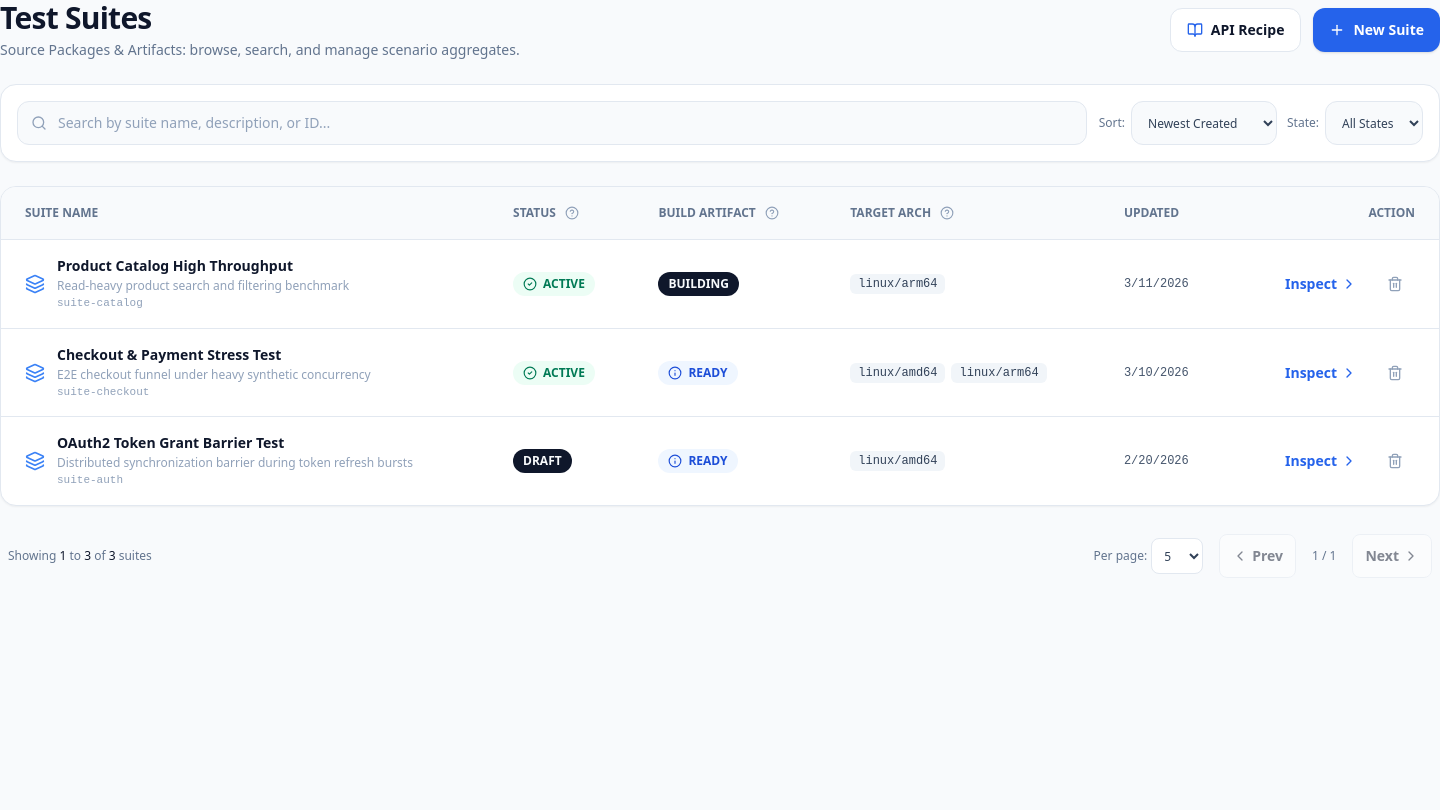
Test case: SuitesView Delete Action › opens delete confirmation dialog when clicking row delete action
Click the button named "delete suite": click(1395, 284) [1375,266,1415,302]
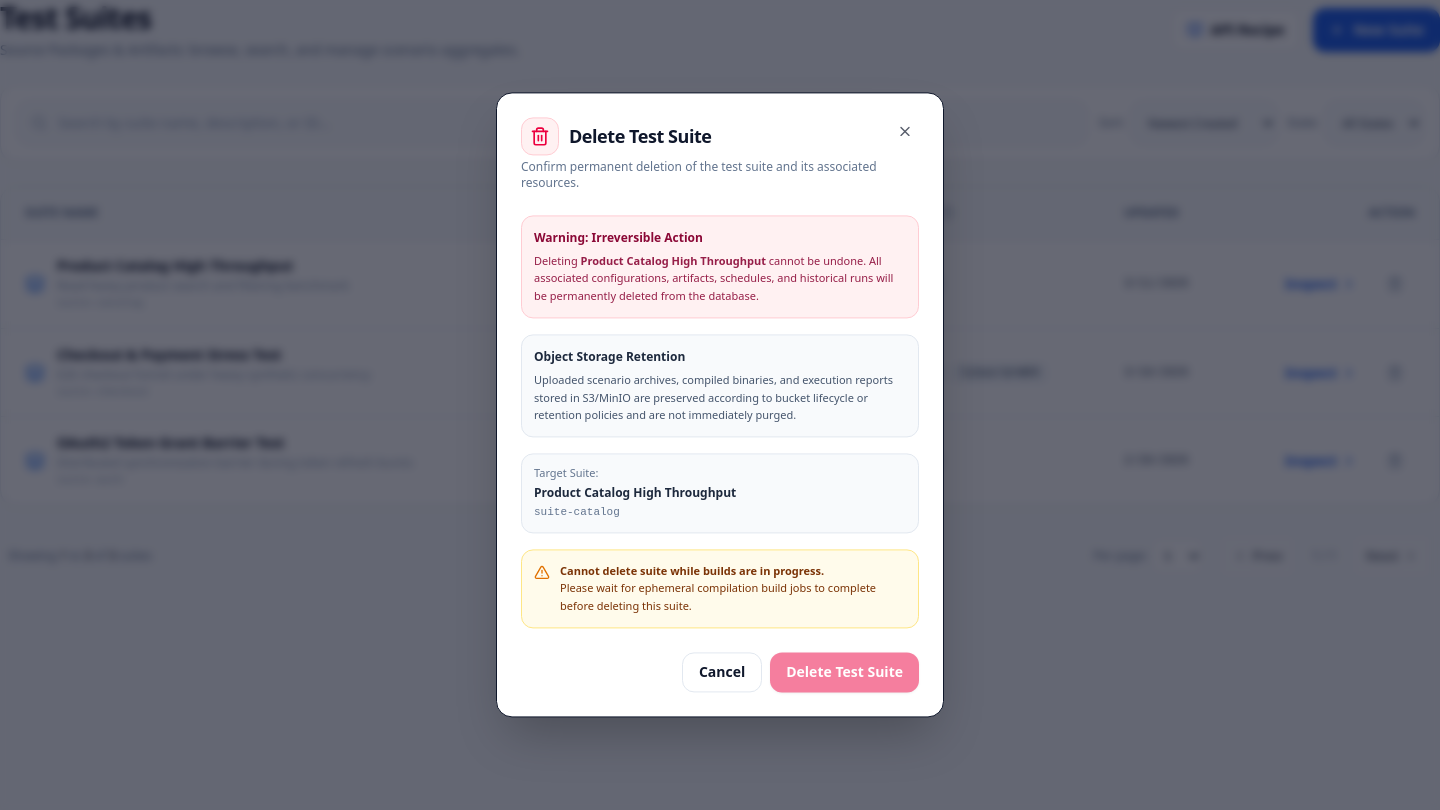
Check: the heading "Delete Test Suite" is shown, box [569,122,712,150]
